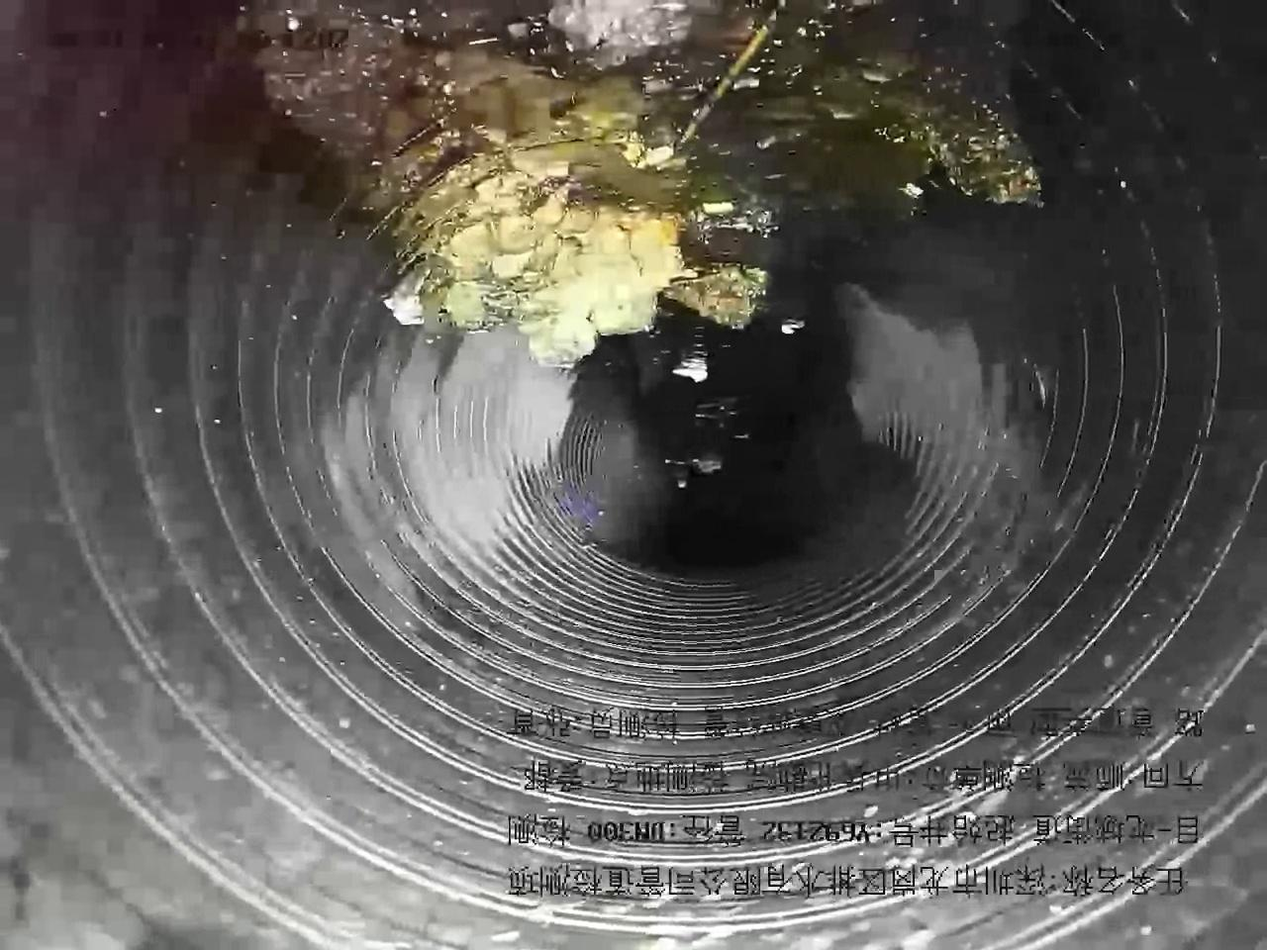CJ: (248, 1, 1039, 367)
